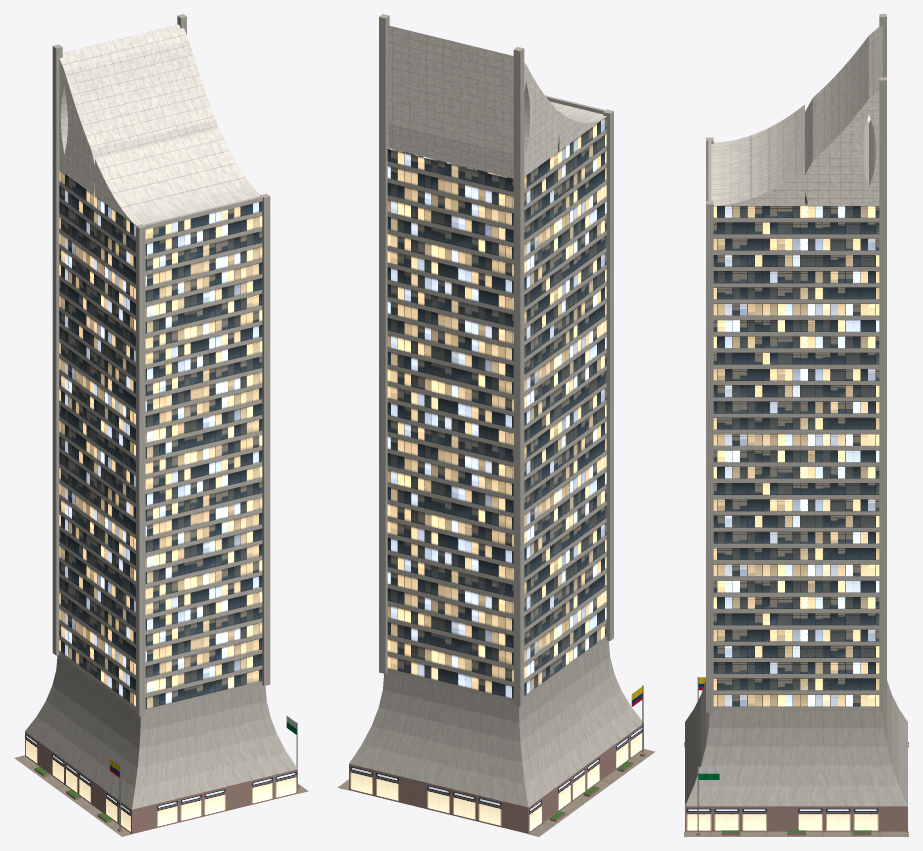
The model's file is CO_EdificioColtejer_6x6_LOD1.fbx.
3 renders of one model, left to right at view 1: azimuth 30°, elevation 25°; view 2: azimuth 150°, elevation 25°; view 3: azimuth 270°, elevation 25°, orthographic. The views are drawn at different scales.
Visible parts, largest first — view 1: CO_EdificioColtejer_6x6_LOD1; view 2: CO_EdificioColtejer_6x6_LOD1; view 3: CO_EdificioColtejer_6x6_LOD1.
Part boxes in pixels (x1,y1,x2,y2): CO_EdificioColtejer_6x6_LOD1: [14, 14, 308, 836]; CO_EdificioColtejer_6x6_LOD1: [337, 14, 654, 836]; CO_EdificioColtejer_6x6_LOD1: [684, 14, 908, 836].
Bounding box in the file's own units: 48 × 175 × 48.
Materials: 1 (1 with a texture image).
